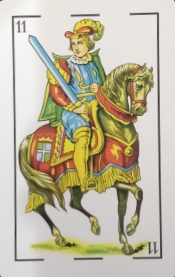11e: (10, 11, 160, 35)
